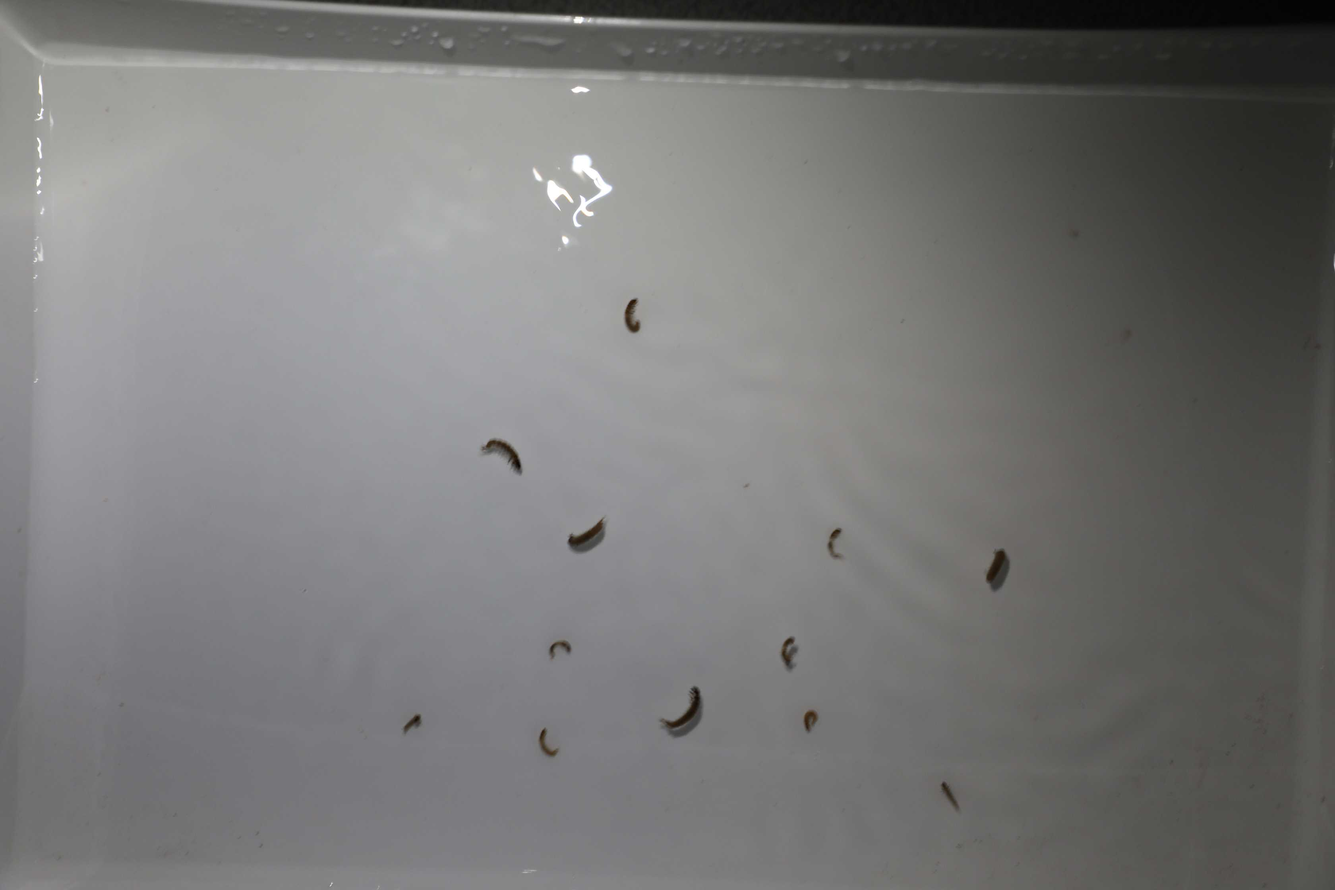Cadisfly: (656, 684, 705, 738), (558, 512, 609, 555), (479, 433, 525, 477), (931, 771, 971, 821), (978, 540, 1007, 594), (821, 514, 849, 565), (619, 292, 647, 342), (533, 725, 570, 761), (543, 634, 575, 665), (779, 631, 801, 672), (396, 708, 428, 733), (802, 707, 822, 736)
